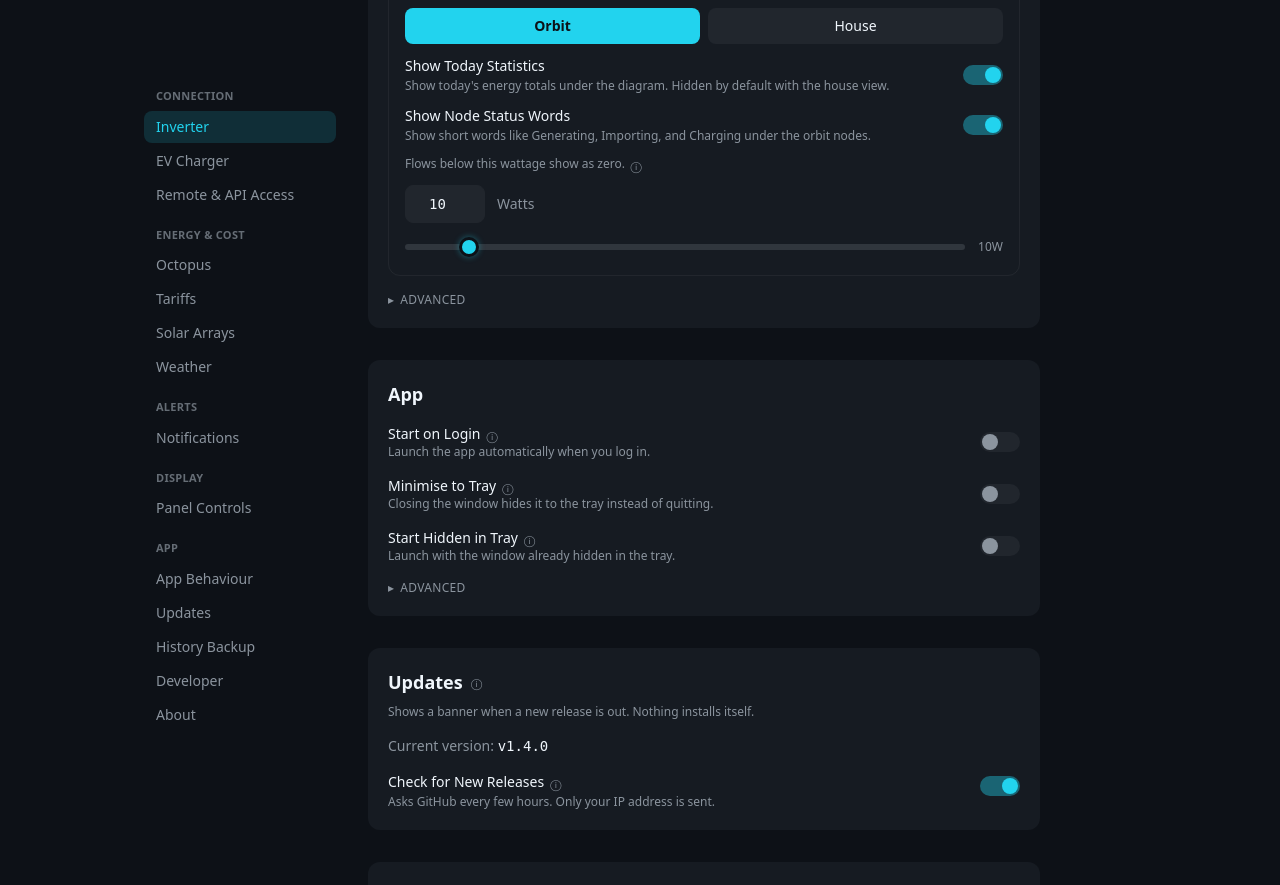
Test: <SettingsPage/> — Start on Login (Tauri shell) › registers the entry, persists the choice and confirms it
(page scrolled)
Check: the text "Start on Login" is shown, box 388,424 -> 480,443
Click the switch named "Start on Login" at coordinates (1000, 442), box 980,432 -> 1020,452
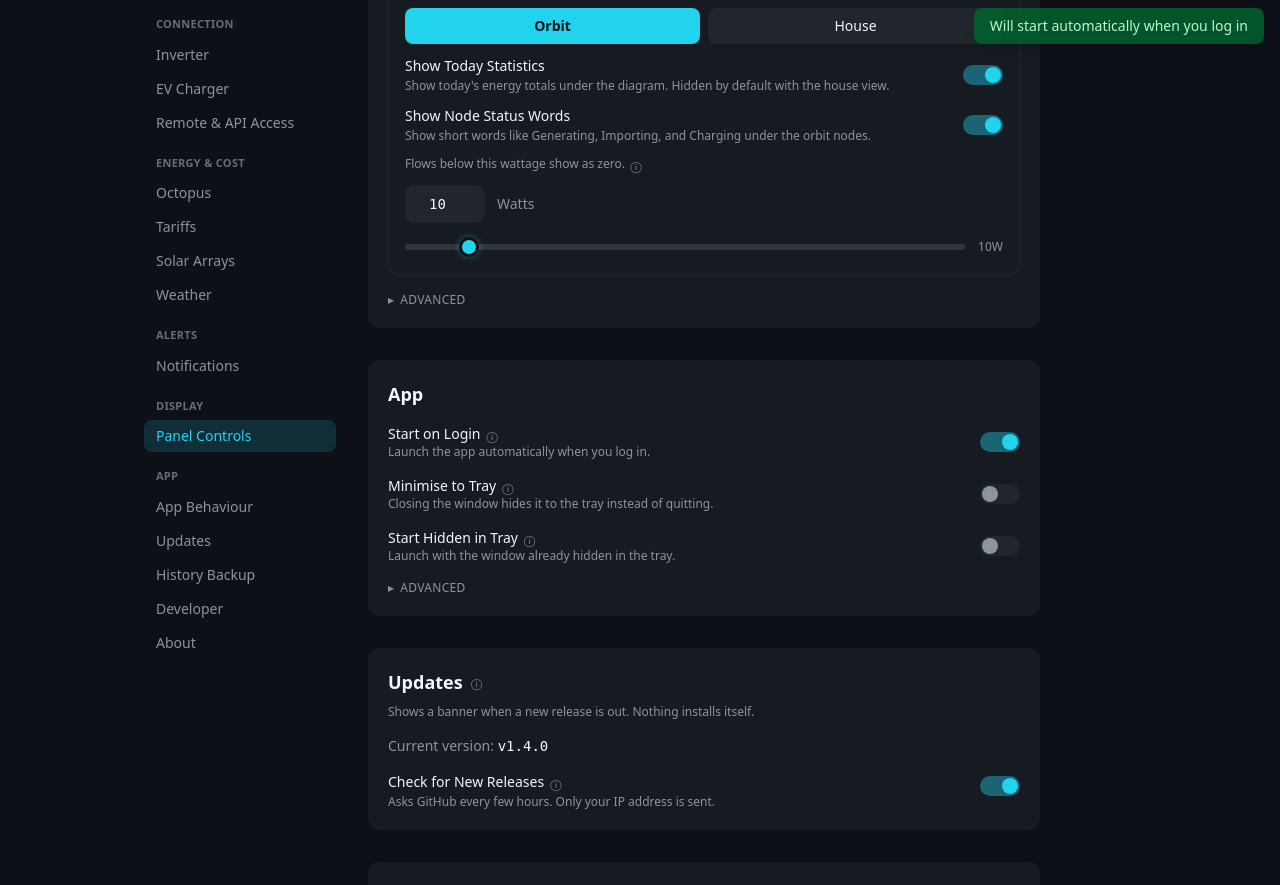
Check: the text "Will start automatically when you log in" is shown, box 974,8 -> 1264,44
